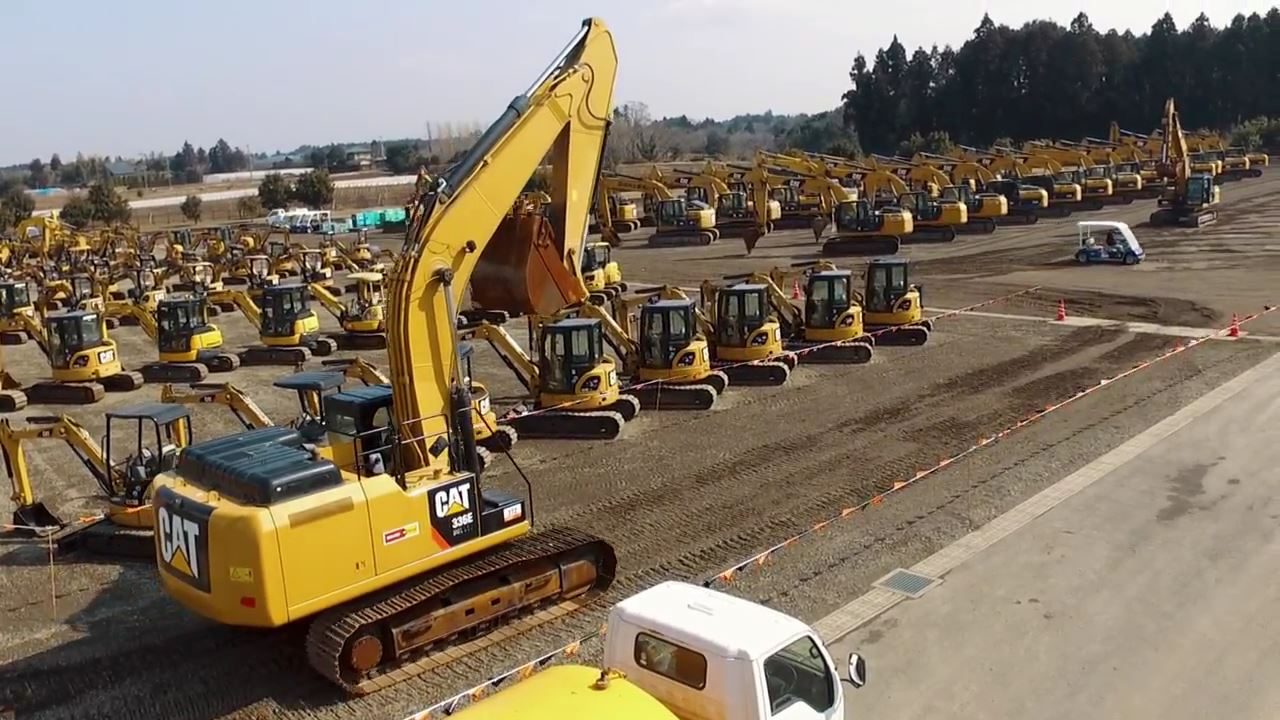con_eq: (158, 20, 628, 691), (410, 565, 904, 720), (7, 409, 193, 561), (502, 316, 629, 454), (632, 294, 723, 421), (27, 313, 144, 410), (233, 280, 346, 373), (1148, 89, 1221, 231), (782, 261, 875, 369), (130, 291, 239, 383), (708, 269, 792, 388), (856, 247, 944, 353), (140, 381, 286, 433), (325, 265, 413, 346), (807, 202, 909, 262), (646, 194, 720, 262), (708, 183, 783, 246), (888, 188, 962, 245), (939, 179, 1001, 243), (1015, 164, 1081, 223), (980, 172, 1043, 232), (1052, 159, 1119, 212), (767, 179, 831, 232), (1086, 157, 1140, 213), (4, 277, 44, 347), (339, 219, 390, 272), (42, 270, 105, 311), (225, 249, 282, 292), (1117, 155, 1167, 200), (174, 254, 221, 294), (114, 265, 166, 295), (294, 239, 329, 280)
